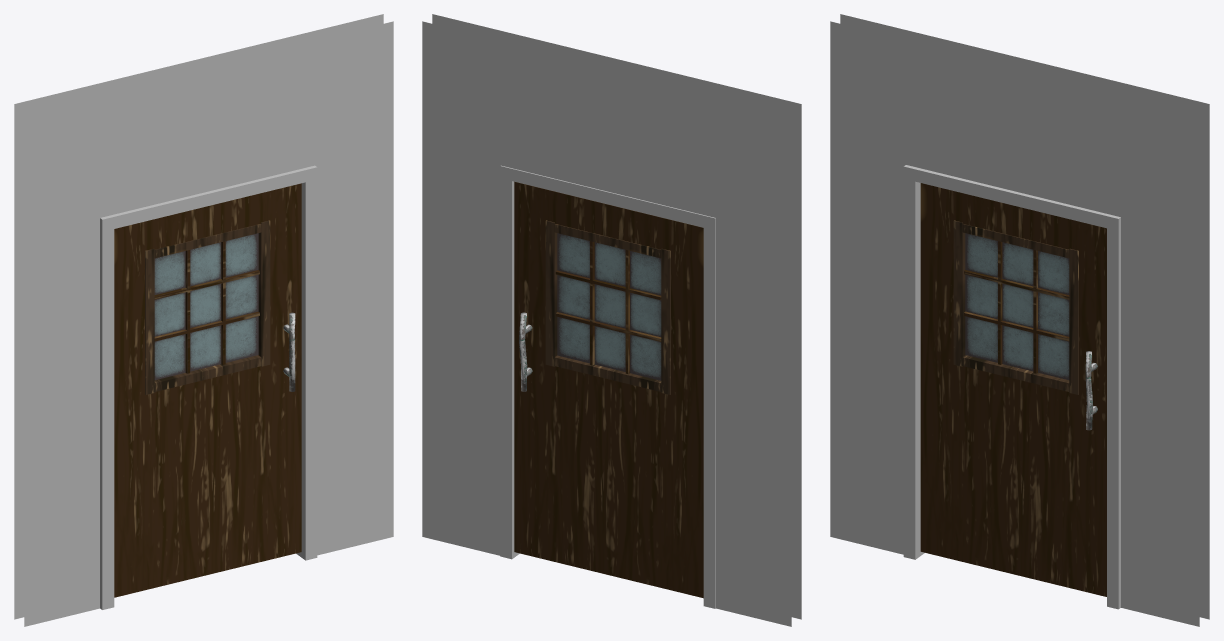
File: M_Door_Fbx.fbx
The picture shows the model from 3 angles, left to right: view 1: azimuth 30°, elevation 25°; view 2: azimuth 150°, elevation 25°; view 3: azimuth 330°, elevation 25°; orthographic projection.
Visible parts, largest first — view 1: Cube.122, Cube.118; view 2: Cube.122, Cube.118; view 3: Cube.122, Cube.118.
Boxes of the visible parts, bbox=[...] form: Cube.122: bbox=[14, 14, 393, 626]; Cube.118: bbox=[114, 183, 301, 597]; Cube.122: bbox=[422, 14, 801, 626]; Cube.118: bbox=[514, 181, 703, 598]; Cube.122: bbox=[830, 14, 1209, 626]; Cube.118: bbox=[920, 183, 1106, 596].
Size of the model in its own units: 300 by 400 by 32.53.
